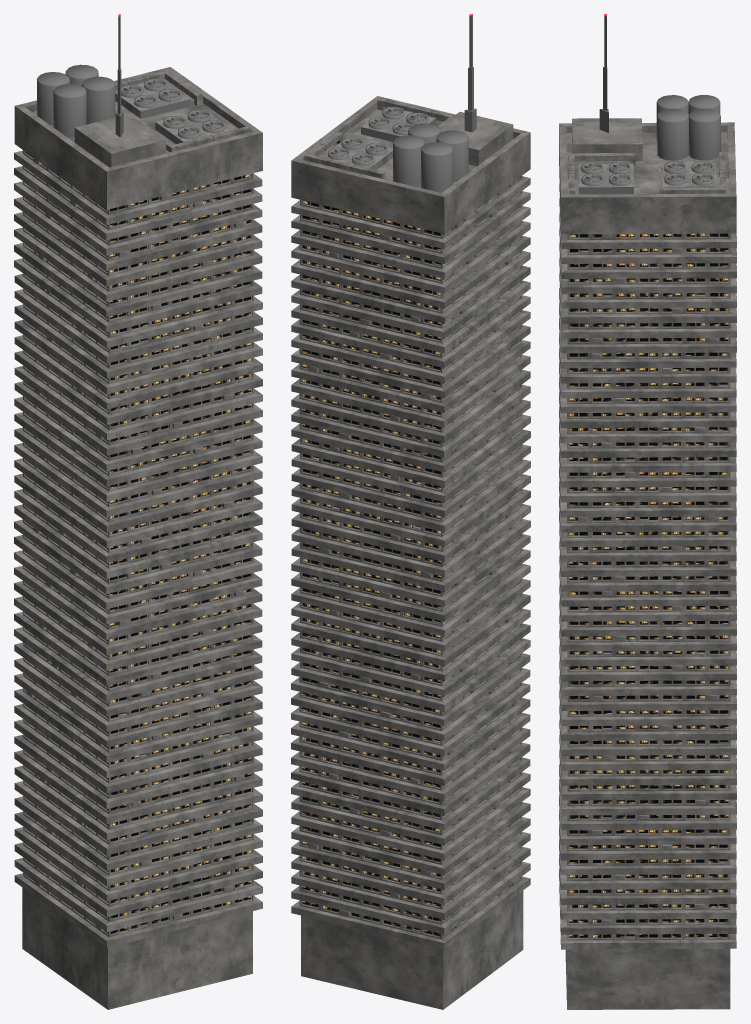
File: quality-skyscraper-thick.glb
The picture shows the model from 3 angles, left to right: view 1: azimuth 30°, elevation 25°; view 2: azimuth 150°, elevation 25°; view 3: azimuth 270°, elevation 25°; orthographic projection. The views are drawn at different scales.
Parts seen in each view (by area): view 1: quality-skyscraper-thick; view 2: quality-skyscraper-thick; view 3: quality-skyscraper-thick.
Boxes of the visible parts, bbox=[...] form: quality-skyscraper-thick: bbox=[14, 14, 262, 1009]; quality-skyscraper-thick: bbox=[291, 14, 530, 1009]; quality-skyscraper-thick: bbox=[559, 14, 736, 1009].
Bounding box in the file's own units: 74.5 × 435 × 74.5.
4 materials, 2 textured.
